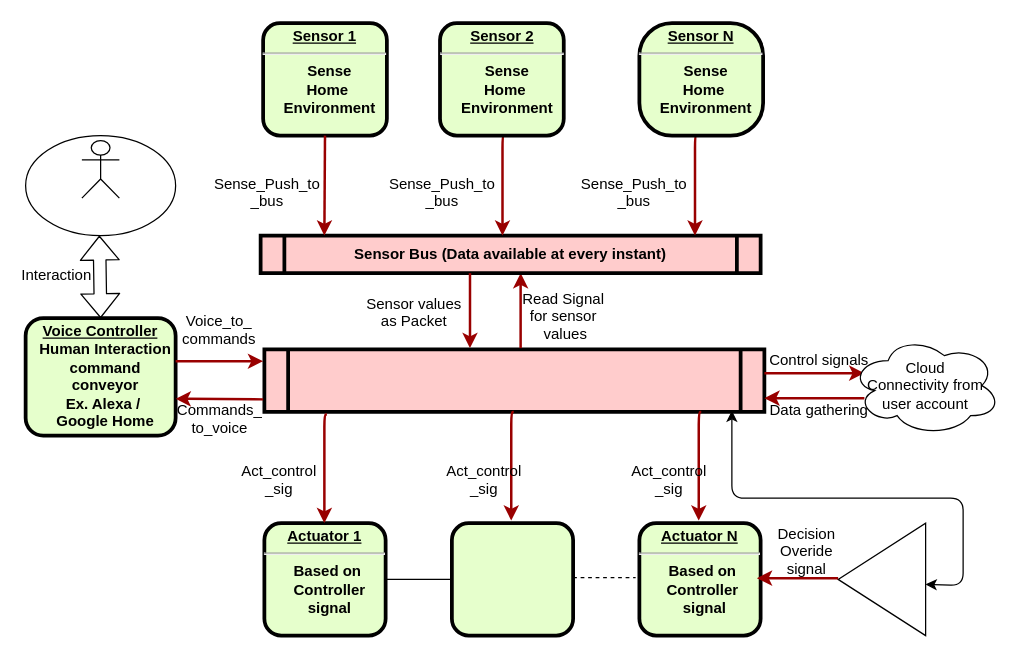
Image size: 1023x659. Some labels were removed from this diagram. The shapes that lost their labels are listed below. From the top down, each one's centre as x and y in pixels, then its label:
(x=100, y=168): User
(x=514, y=380): Raspberry Pi Controller Decision Unit
(x=511, y=579): Actuator 2 Based on Controller signal
(x=881, y=579): Fault Tolerant System
